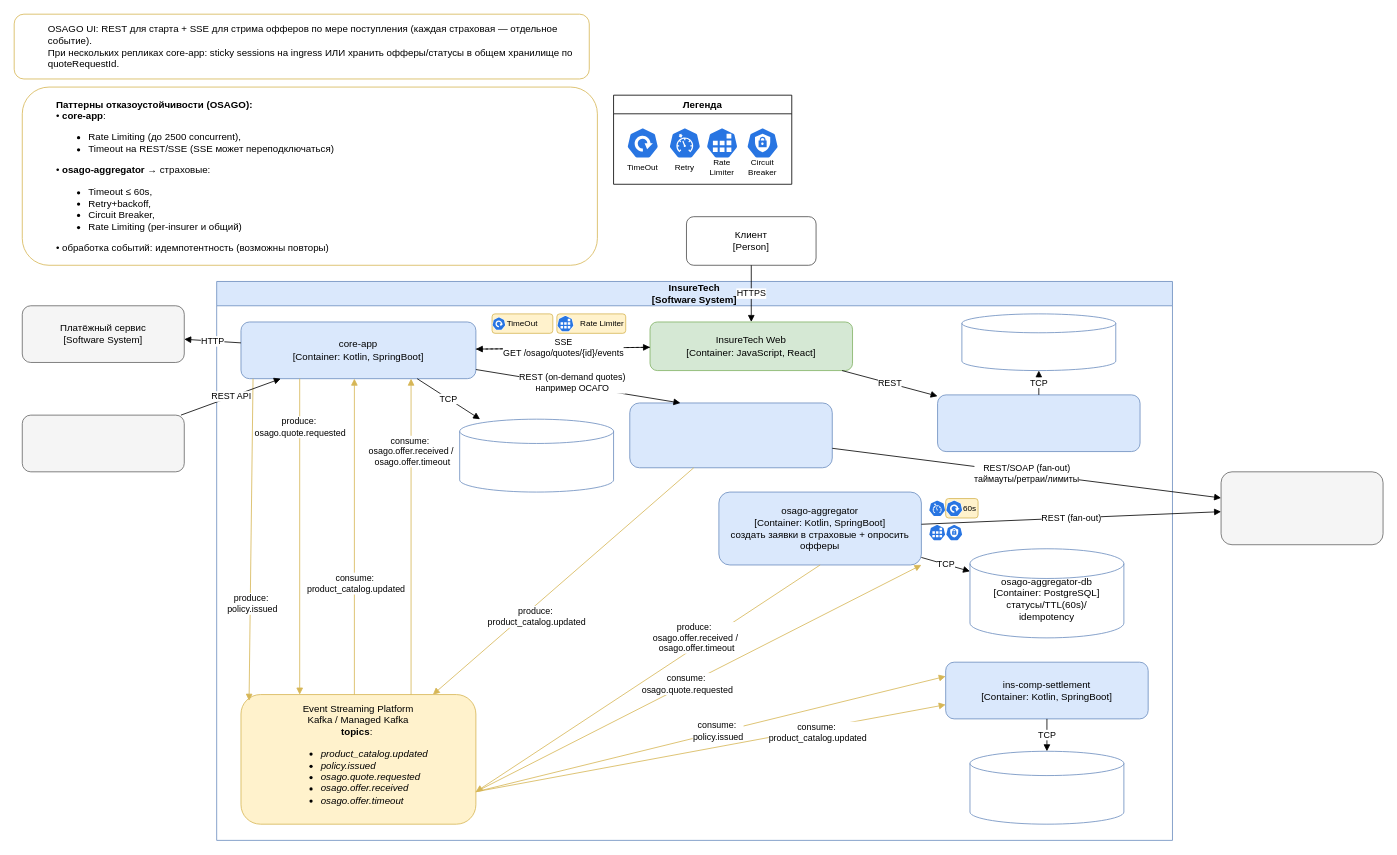
This 1397x855 diagram has some shape labels left out. The shapes that lost their labels are listed below. From the top down, each one's centre as x and y in pixels, then its label:
At [1038,342]: "client-info-db [Container: PostgreSQL]".
At [102,443]: "Системы партнёров [Software System]".
At [730,435]: "ins-product-aggregator [Container: Kotlin, SpringBoot]".
At [1038,423]: "client-info [Container: Kotlin, SpringBoot]".
At [536,455]: "core-db [Container: PostgreSQL]".
At [1301,508]: "Системы страховых компаний [Software System] (5 сейчас + 5 планируется)".
At [1046,787]: "ins-comp-settlement-db [Container: PostgreSQL]".
